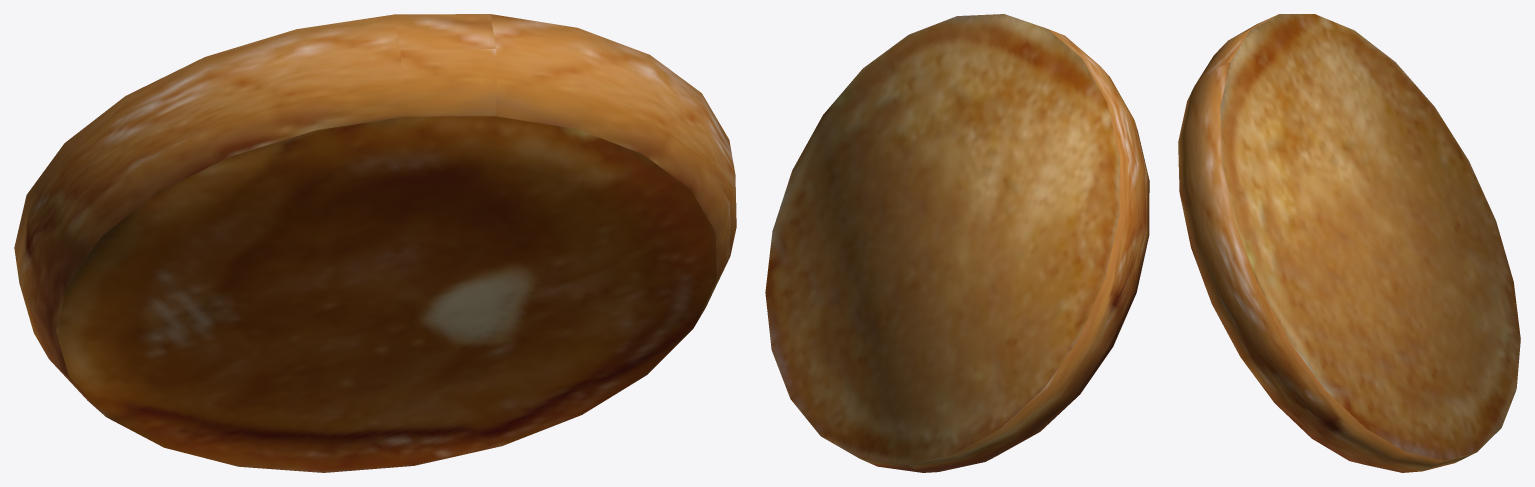
File: Bottom_Bun.glb
The picture shows the model from 3 angles, left to right: view 1: azimuth 30°, elevation 25°; view 2: azimuth 150°, elevation 25°; view 3: azimuth 270°, elevation 25°; orthographic projection. The views are drawn at different scales.
Parts seen in each view (by area): view 1: Bottom_Bun; view 2: Bottom_Bun; view 3: Bottom_Bun.
Boxes of the visible parts, <box> form: Bottom_Bun: <box>14,14,736,472</box>; Bottom_Bun: <box>765,14,1149,472</box>; Bottom_Bun: <box>1178,14,1520,472</box>.
Bounding box in the file's own units: 0.223 × 0.203 × 0.1638.
Materials: 1 (1 with a texture image).
